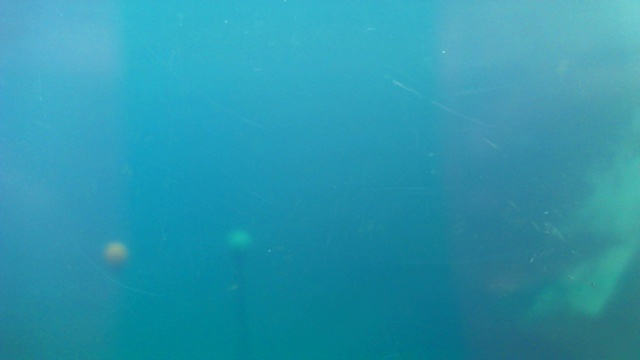buoy_green: (227, 229, 253, 264)
buoy_red: (104, 243, 124, 264)
